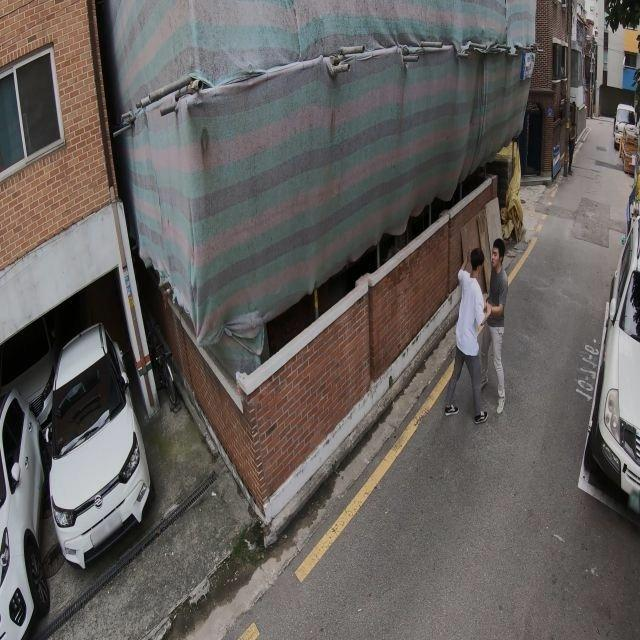fight: (445, 239, 509, 424)
